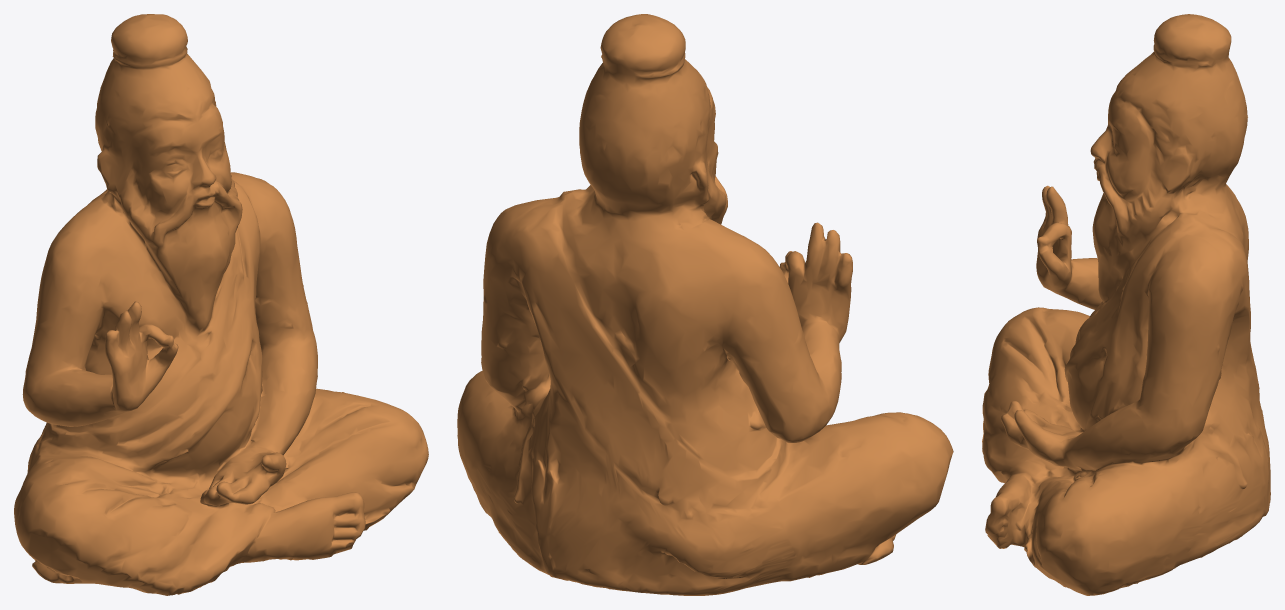
File: Vainavam_Raaja_Rishi_20.glb
3 views of the same model, side by side, from view 1: azimuth 30°, elevation 25°; view 2: azimuth 150°, elevation 25°; view 3: azimuth 270°, elevation 25° (orthographic). The views are drawn at different scales.
Parts seen in each view (by area): view 1: Vainavam_Raaja_Rishi_20; view 2: Vainavam_Raaja_Rishi_20; view 3: Vainavam_Raaja_Rishi_20.
Part boxes in pixels (box(x1,y1,x2,y2)): Vainavam_Raaja_Rishi_20: box(14, 14, 428, 595); Vainavam_Raaja_Rishi_20: box(457, 14, 953, 595); Vainavam_Raaja_Rishi_20: box(982, 14, 1270, 595).
Size of the model in its own units: 0.3389 by 0.3843 by 0.2084.
